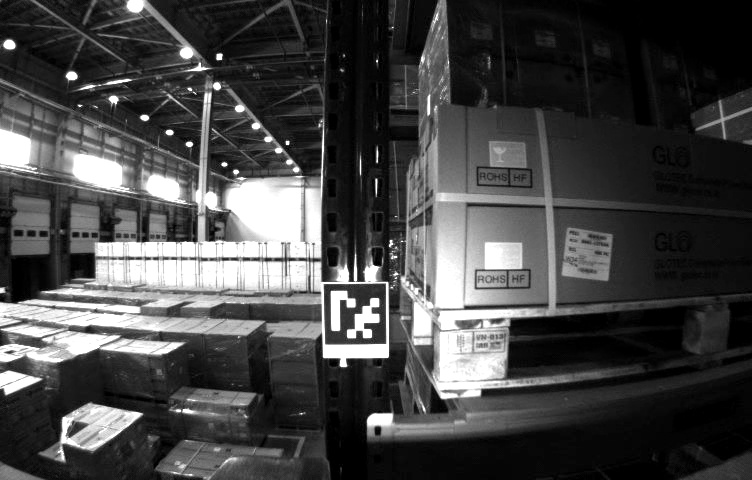True Barcode: (564, 225, 619, 285)
